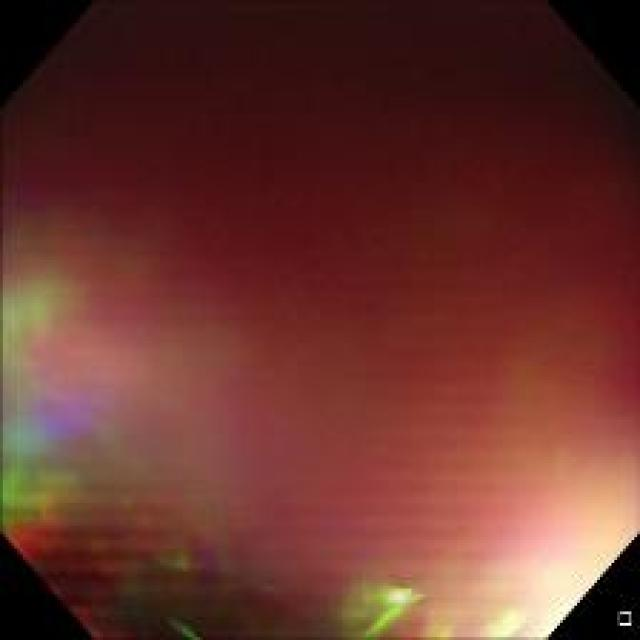color misalignment: (8, 11, 631, 626), (0, 275, 275, 630), (334, 576, 534, 632)
